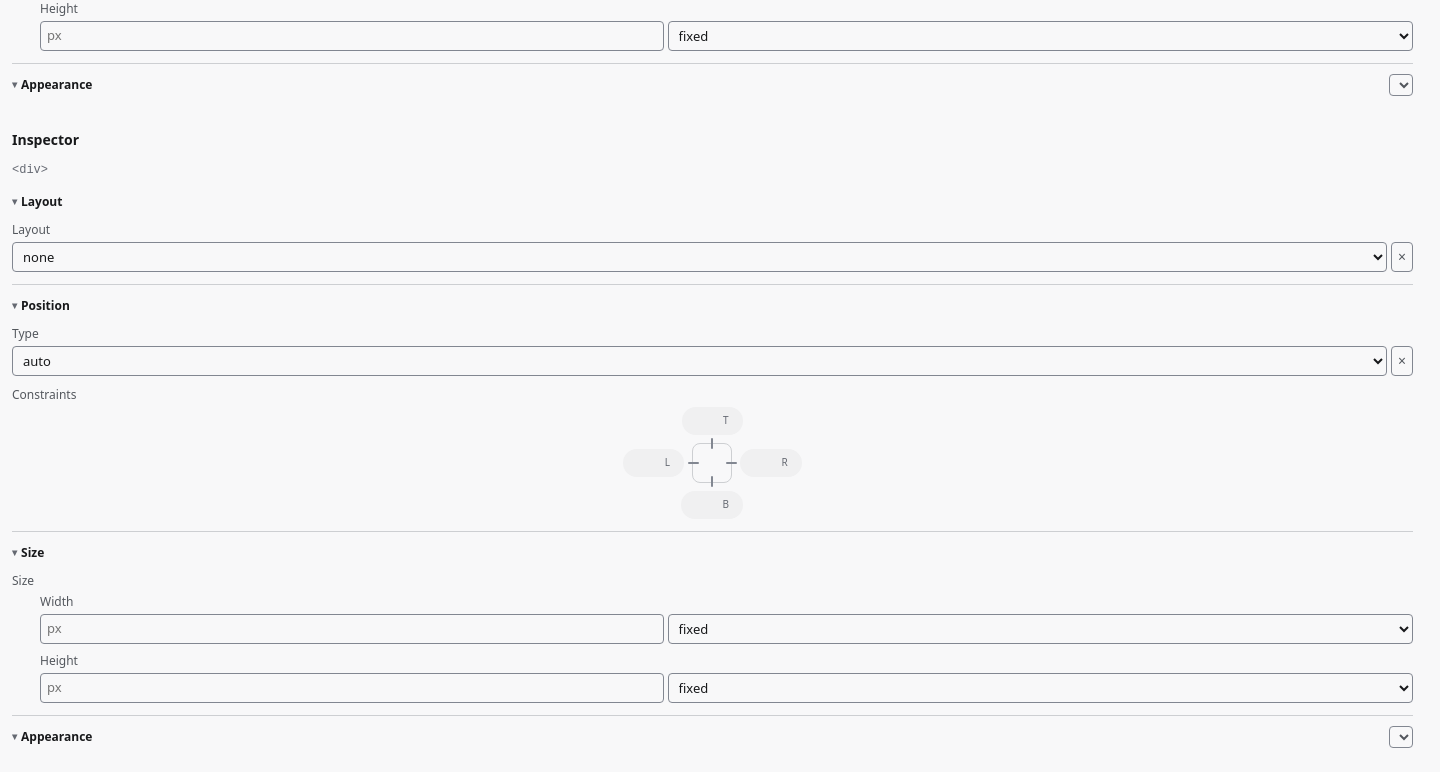
Test: Inspector › hides an optional property until it is asked for
(page scrolled)
Select "Padding" in the 2nd dropdown with class "group__add" at point(1401, 737), box [1389,726,1413,748]
(page scrolled)
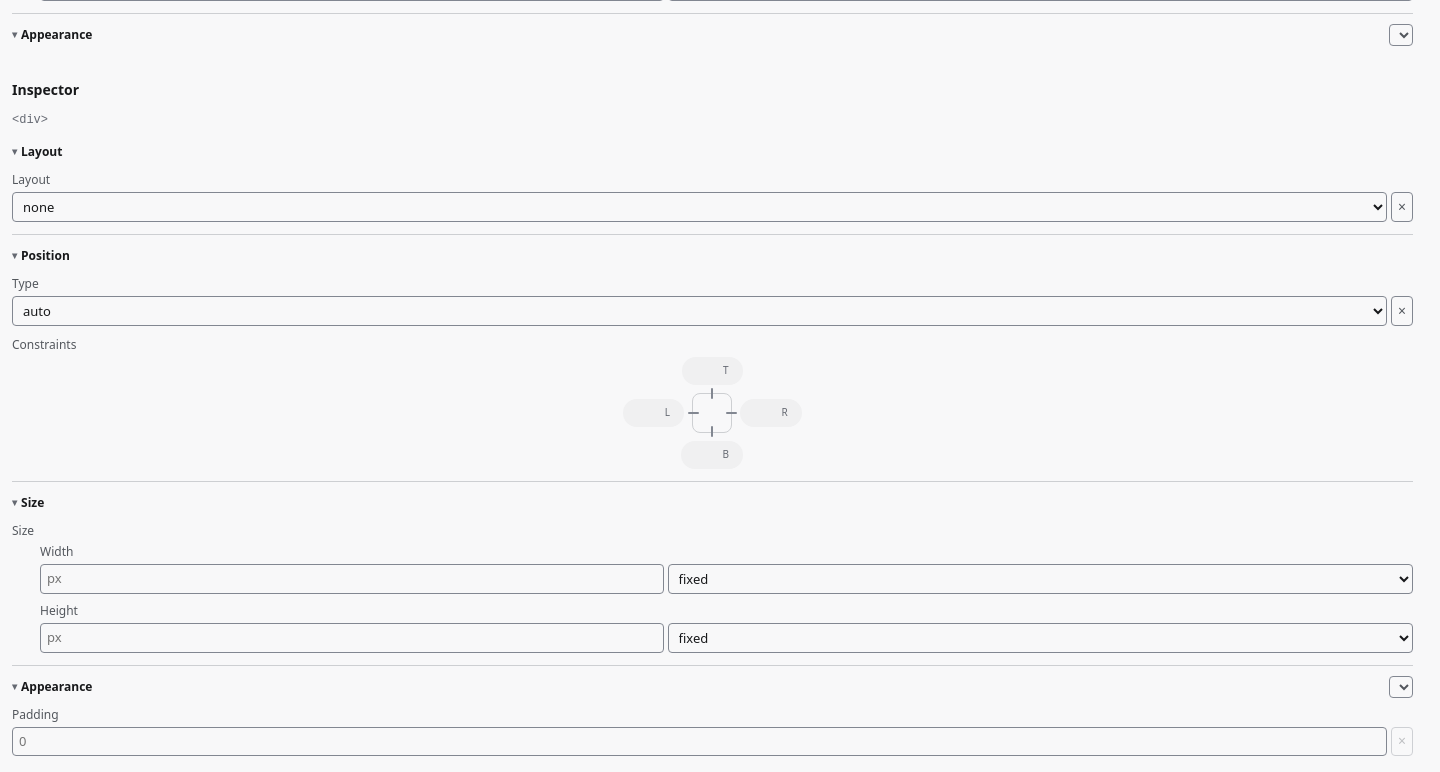
Expected: the field with id "field-padding" is shown, [12,727,1387,756]
